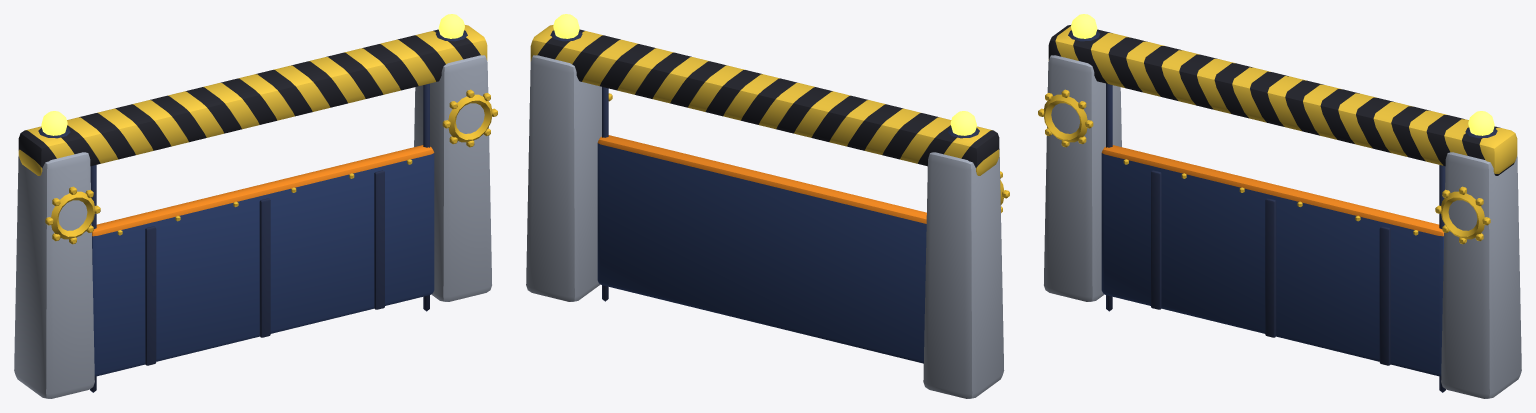
File: W1_SluiceGate.fbx
The picture shows the model from 3 angles, left to right: view 1: azimuth 30°, elevation 25°; view 2: azimuth 150°, elevation 25°; view 3: azimuth 330°, elevation 25°; orthographic projection.
Parts seen in each view (by area): view 1: Static, Gate; view 2: Static, Gate; view 3: Static, Gate.
Part boxes in pixels (left/top/right/bottom): Static: left=14, top=14, right=497, bottom=398; Gate: left=92, top=145, right=434, bottom=376; Static: left=526, top=14, right=1009, bottom=398; Gate: left=597, top=135, right=926, bottom=363; Static: left=1038, top=14, right=1521, bottom=398; Gate: left=1101, top=145, right=1443, bottom=376.
Size of the model in its own units: 13.4 by 8.05 by 1.97.
